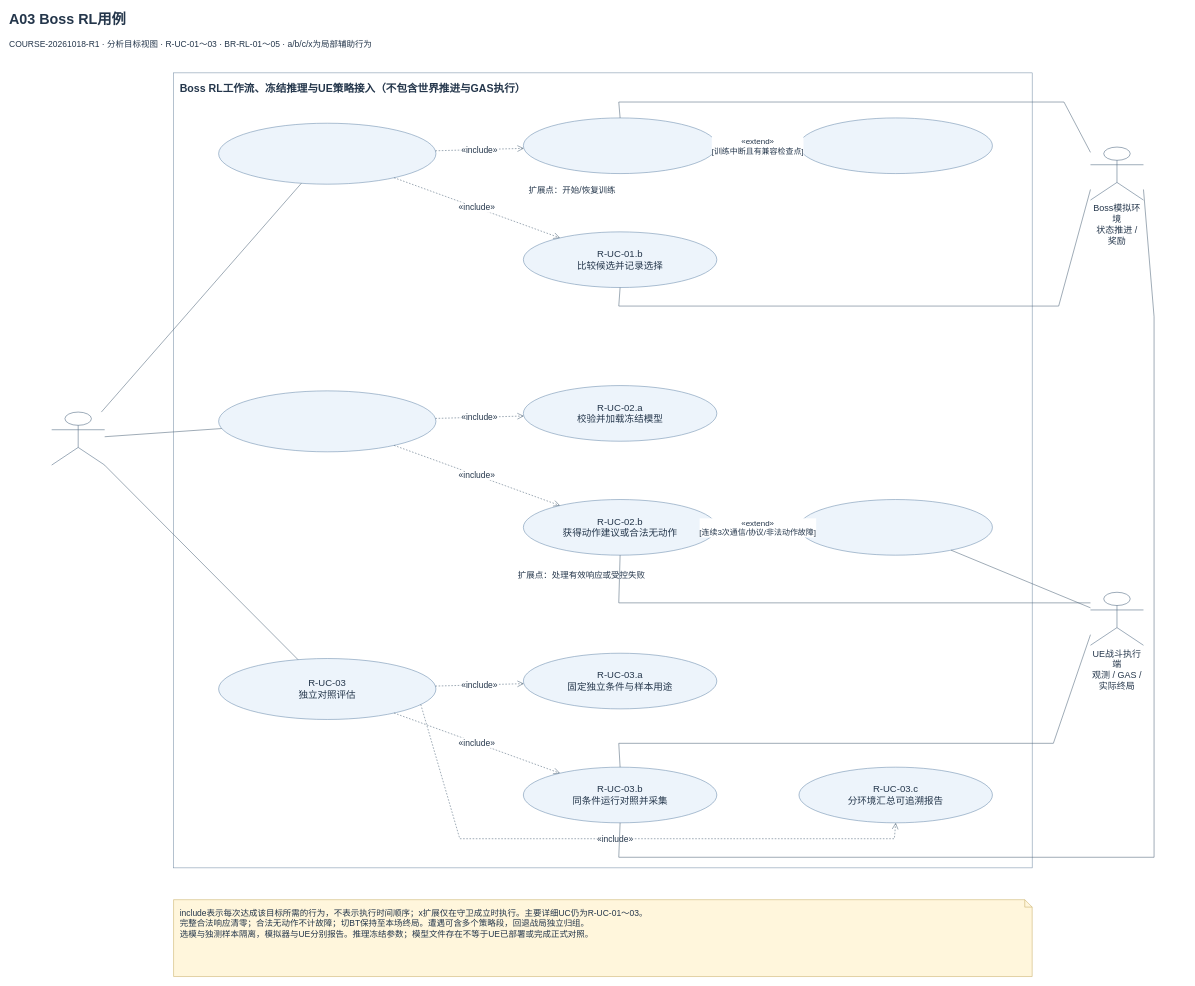
Image size: 1195x986. Some labels were removed from this diagram. Here are the shapes that lost their labels. From the top down, the centre of each, then its label:
At point (327, 153): "R-UC-01 训练并选择候选策略".
At point (620, 145): "R-UC-01.a 训练候选并保存产物".
At point (895, 145): "R-UC-01.x 从兼容检查点恢复".
At point (78, 438): "开发与研究人员".
At point (327, 421): "R-UC-02 部署冻结策略并接入战斗".
At point (895, 527): "R-UC-02.x 记录故障并切BT接管".
